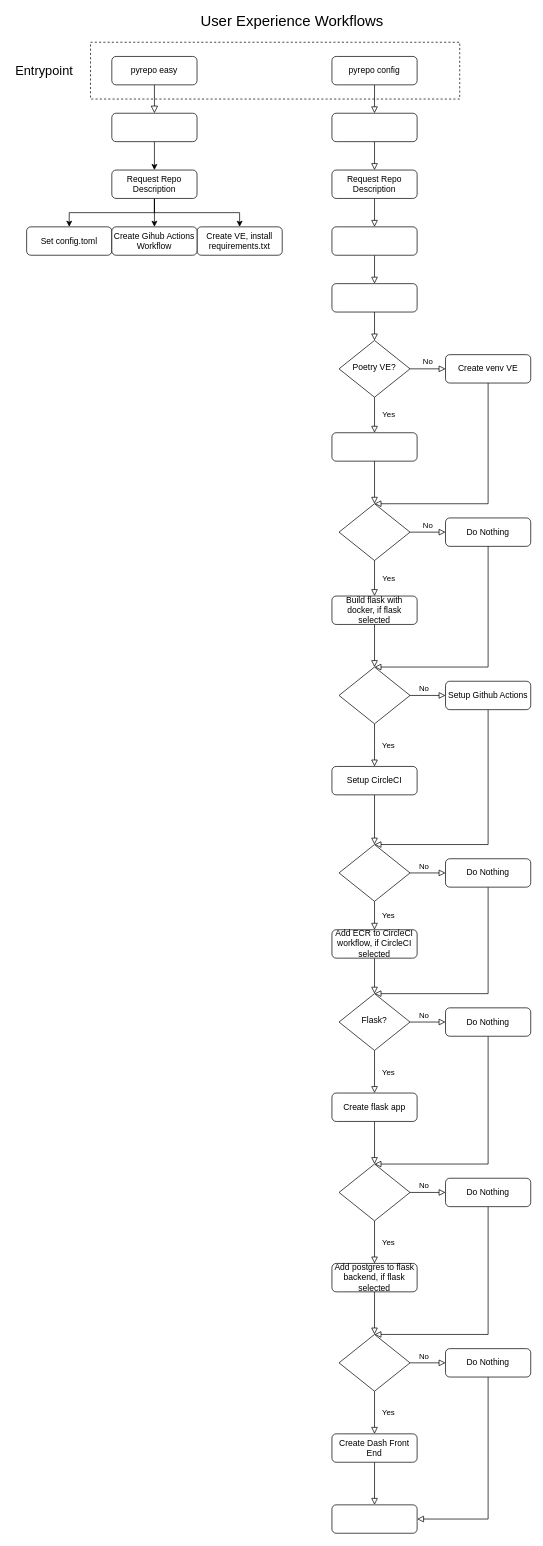
Some shapes in this 543 by 1546 pixel diagram are drawn without their labels. The box of each missing label's shape, as (x1, y1, x2, y2) in pixels:
Amazon ECR?: (338, 844, 410, 901)
CircleCI?: (338, 666, 410, 724)
Create Poetry VE: (331, 432, 417, 461)
Dash Front End?: (338, 1334, 410, 1391)
Docker?: (338, 503, 410, 561)
Postgres?: (338, 1163, 410, 1221)
Request Maintainer Name: (331, 283, 417, 312)
Request Python Version: (331, 226, 417, 255)
Request Rep Name: (331, 113, 417, 142)
Request Repo Name: (111, 113, 197, 142)
Run Setup: (331, 1504, 417, 1533)
